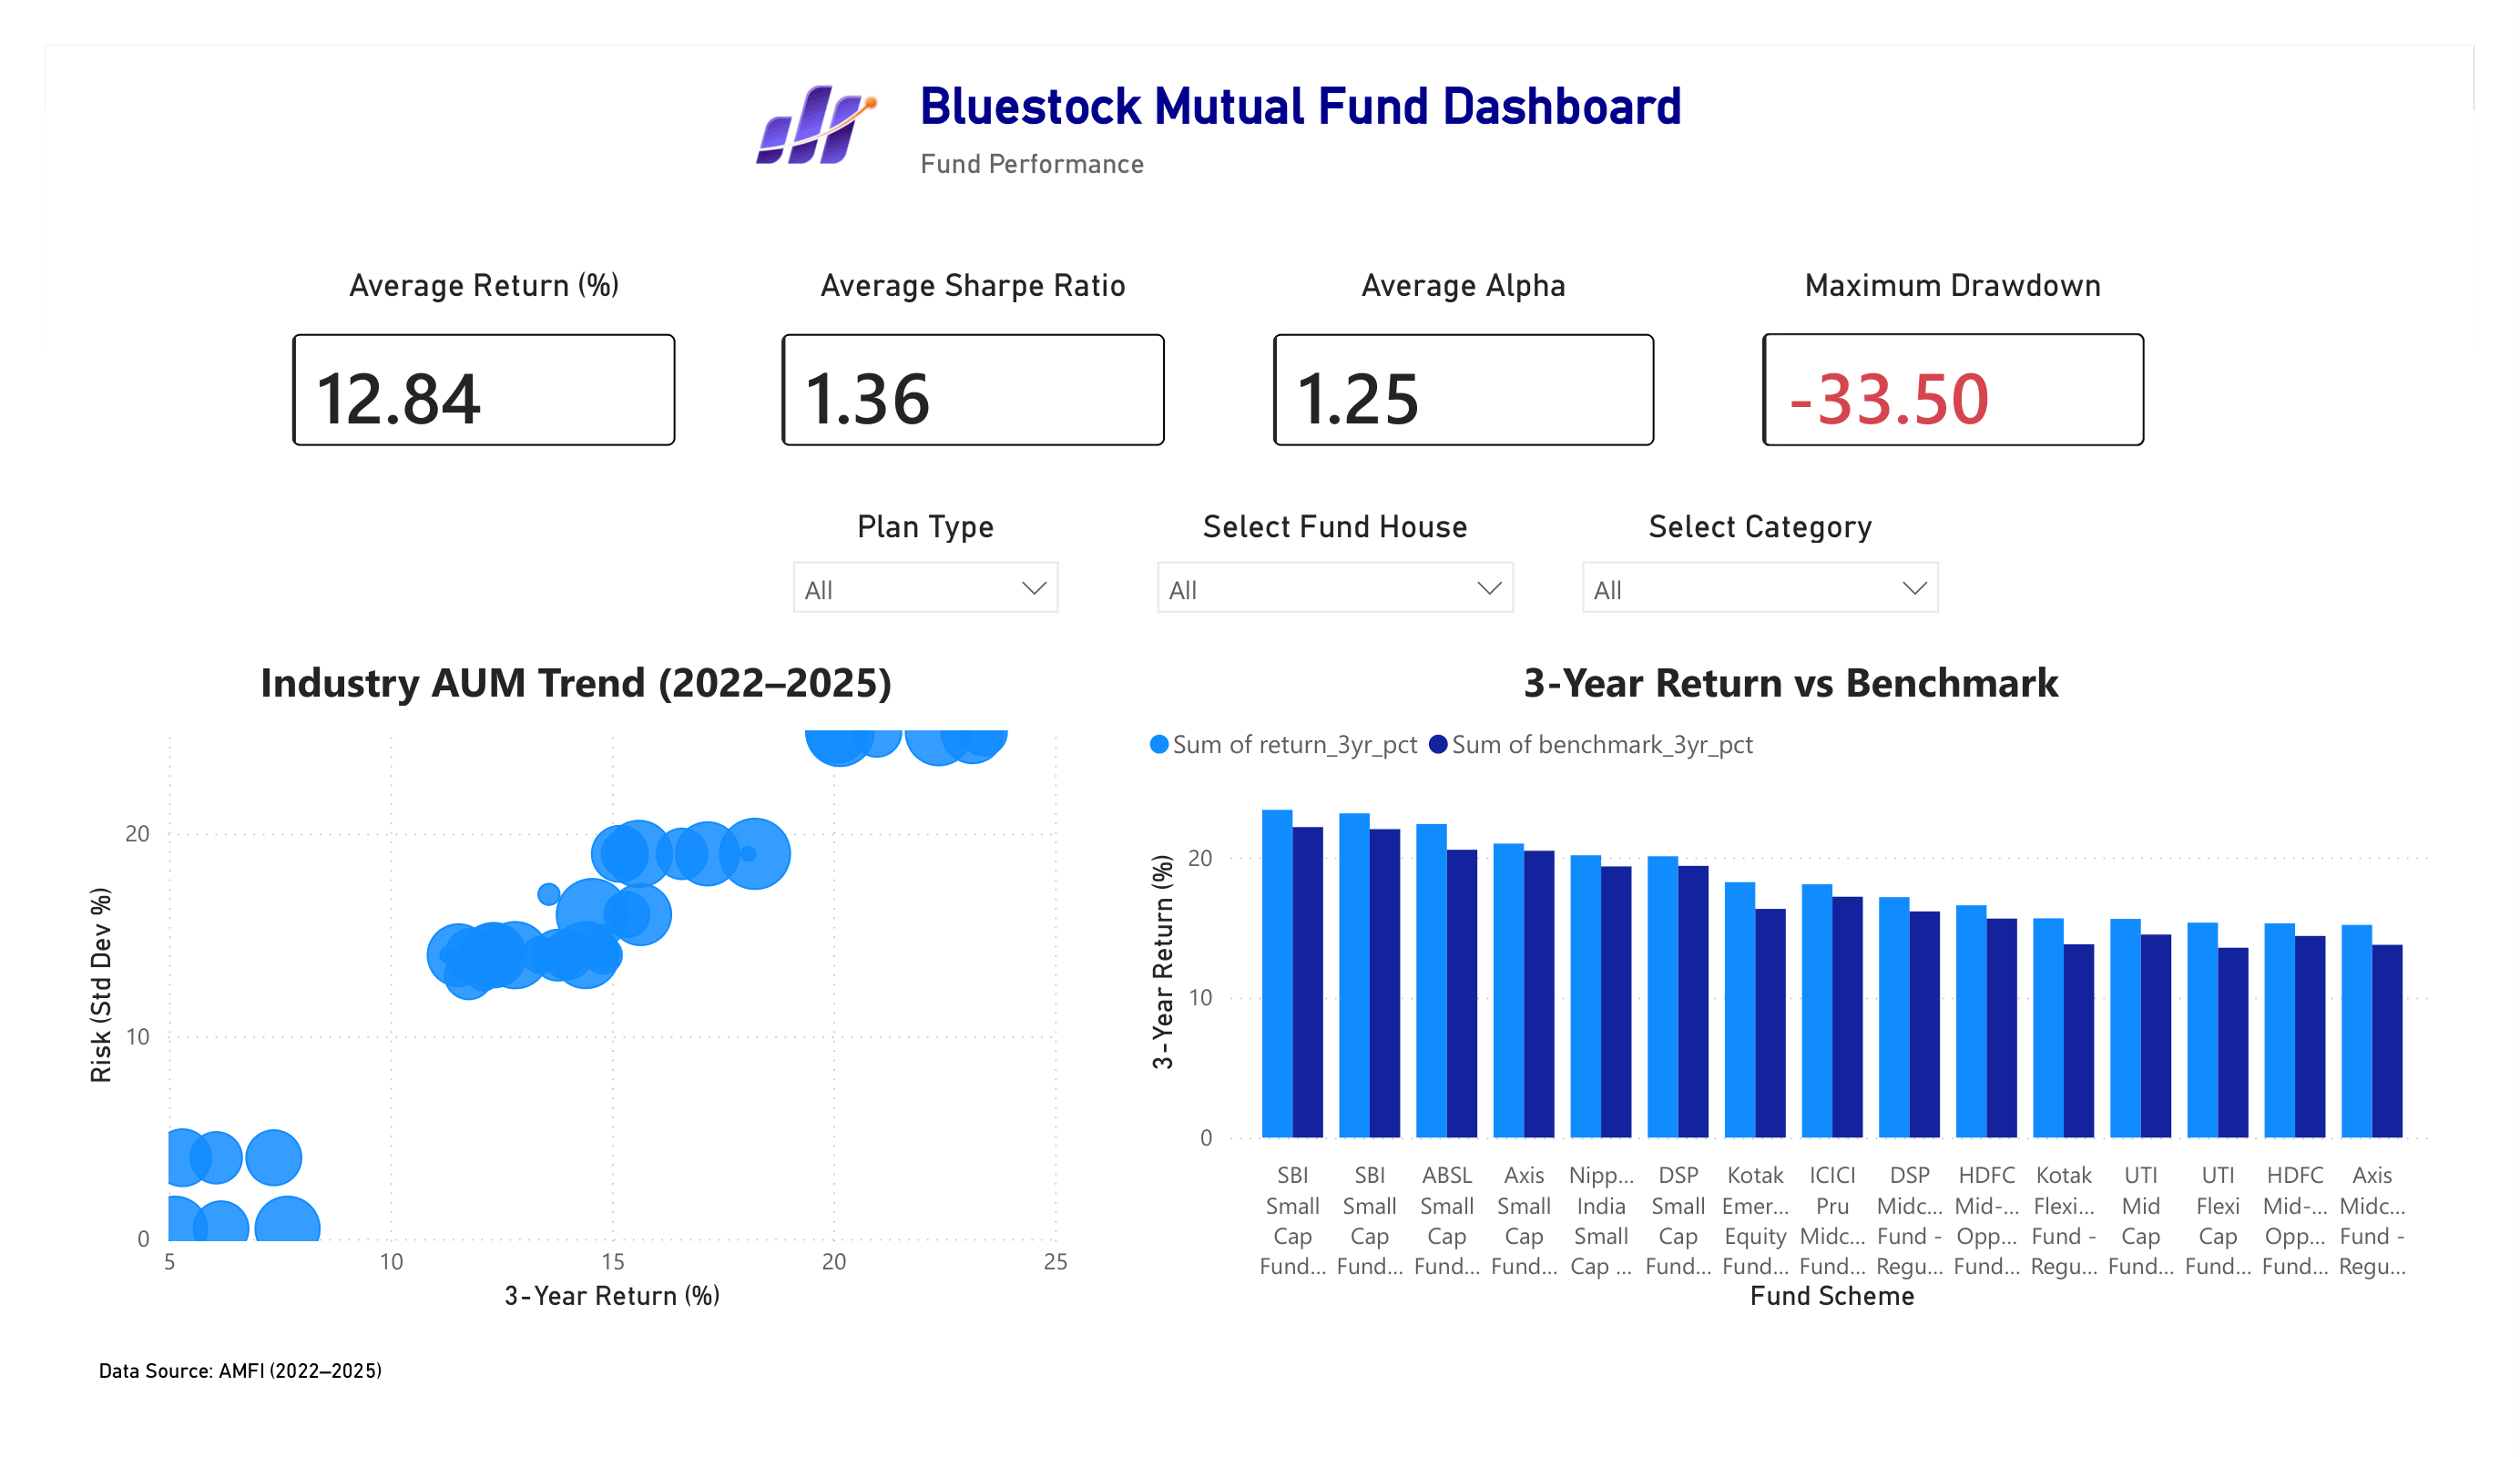

The dashboard page shown, as its layout file describes it:
{"tool":"powerbi","page":{"name":"Fund Performance","canvas":[1280,720],"ordinal":1},"visuals":[{"type":"textbox","title":"Bluestock Mutual Fund Dashboard","box":[455.6,15.6,420,40],"z":0},{"type":"cardVisual","title":"Average Return (%)","fields":{"Data":["Avg(clean_performance.benchmark_3yr_pct)"]},"box":[113.3,115.6,235.6,112.2],"z":1000},{"type":"cardVisual","title":"Average Sharpe Ratio","fields":{"Data":["Avg(clean_performance.sharpe_ratio)"]},"box":[371.5,115.6,235.6,112.2],"z":2000},{"type":"cardVisual","title":"Average Alpha","fields":{"Data":["Avg(clean_performance.alpha)"]},"box":[629.6,115.6,235.6,112.2],"z":3000},{"type":"cardVisual","title":"Maximum Drawdown","fields":{"Data":["Min(clean_performance.max_drawdown_pct)"]},"box":[887.8,115.6,235.6,112.2],"z":4000},{"type":"scatterChart","title":"Industry AUM Trend (2022–2025)","fields":{"X":["Avg(clean_performance.return_3yr_pct)"],"Y":["Sum(clean_performance.std_dev_ann_pct)"],"Size":["Sum(clean_performance.aum_crore)"],"Category":["clean_performance.amfi_code"]},"box":[16,320,528,352],"z":5000},{"type":"clusteredColumnChart","title":"3-Year Return vs Benchmark","fields":{"Category":["clean_performance.scheme_name"],"Y":["Sum(clean_performance.return_3yr_pct)","Sum(clean_performance.benchmark_3yr_pct)"]},"box":[576,320,688,352],"z":6000},{"type":"textbox","title":"Fund Performance","box":[455.6,54.4,250,20],"z":7000},{"type":"slicer","title":"Plan Type","fields":{"Values":["03_aum_by_fund_house.date.Variation.Date Hierarchy.Year"]},"box":[383.5,242.6,160,64],"z":8000},{"type":"slicer","title":"Select Fund House","fields":{"Values":["03_aum_by_fund_house.fund_house"]},"box":[575.5,242.6,208,64],"z":9000},{"type":"image","box":[348.9,0,114.4,84.4],"z":10000},{"type":"textbox","title":"Data Source: AMFI (2022–2025)","box":[23.3,692.2,250,20],"z":11000},{"type":"slicer","title":"Select Category","fields":{"Values":["clean_performance.category"]},"box":[799.5,242.6,208,64],"z":11001}]}

Visuals, with their boxes on the page's 1280x720 design canvas (x1, y1, x2, y2). These are canvas units, not pixel positions in the 2520x1457 screenshot, which may show the page scaled, cropped or inside an application window:
"Bluestock Mutual Fund Dashboard" textbox: bbox=(456, 16, 876, 56)
"Average Return (%)" cardVisual: bbox=(113, 116, 349, 228)
"Average Sharpe Ratio" cardVisual: bbox=(372, 116, 607, 228)
"Average Alpha" cardVisual: bbox=(630, 116, 865, 228)
"Maximum Drawdown" cardVisual: bbox=(888, 116, 1123, 228)
"Industry AUM Trend (2022–2025)" scatterChart: bbox=(16, 320, 544, 672)
"3-Year Return vs Benchmark" clusteredColumnChart: bbox=(576, 320, 1264, 672)
"Fund Performance" textbox: bbox=(456, 54, 706, 74)
"Plan Type" slicer: bbox=(384, 243, 544, 307)
"Select Fund House" slicer: bbox=(576, 243, 784, 307)
image: bbox=(349, 0, 463, 84)
"Data Source: AMFI (2022–2025)" textbox: bbox=(23, 692, 273, 712)
"Select Category" slicer: bbox=(800, 243, 1008, 307)
